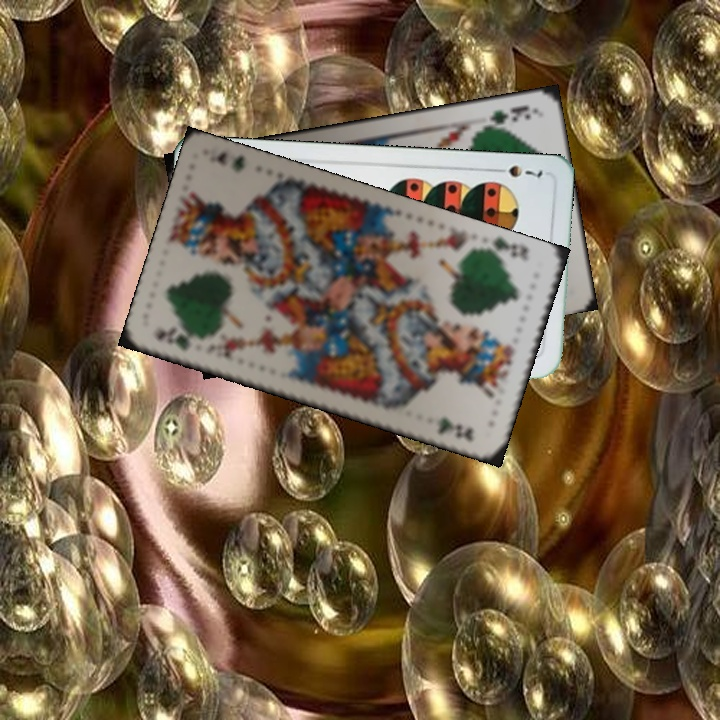GK: (479, 101, 534, 132), (480, 233, 531, 265), (150, 325, 208, 353)
S7: (489, 160, 547, 181)
